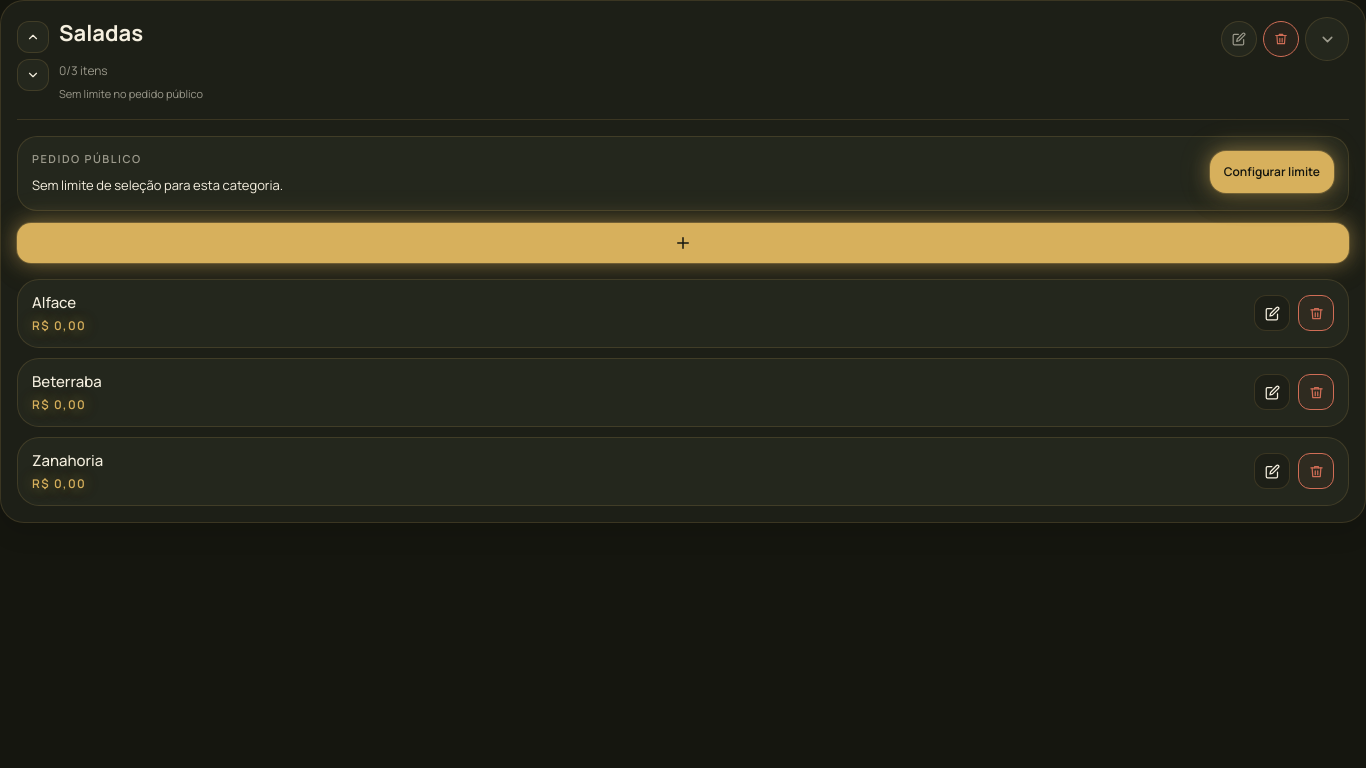
Scenario: CategoryCard › enables save limit when only a minimum is set
This screenshot has width=1366, height=768.
Click the button "Configurar limite" at (1272, 172), box x1=1210 y1=150 x2=1334 y2=192
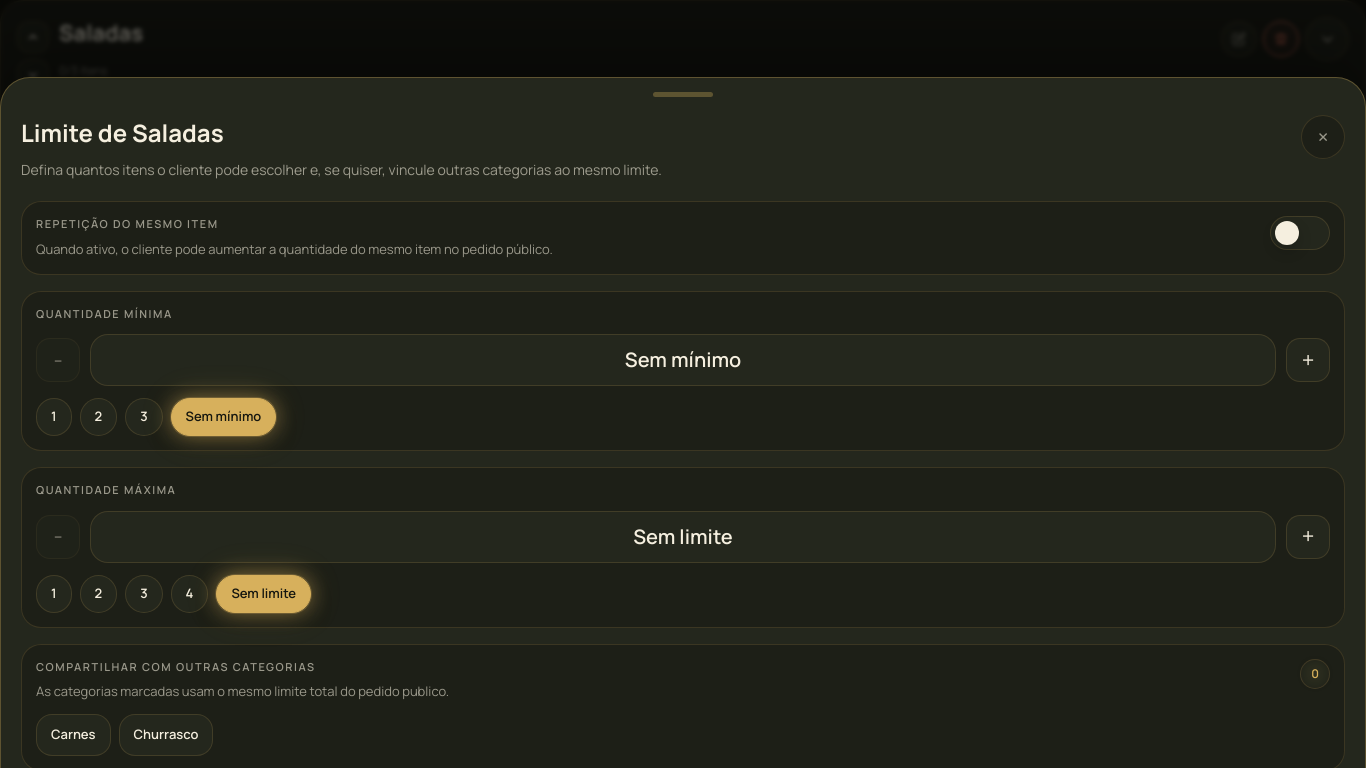
Click the button named "Aumentar minimo de Saladas" at (1308, 360), box x1=1286 y1=338 x2=1330 y2=382
(page scrolled)
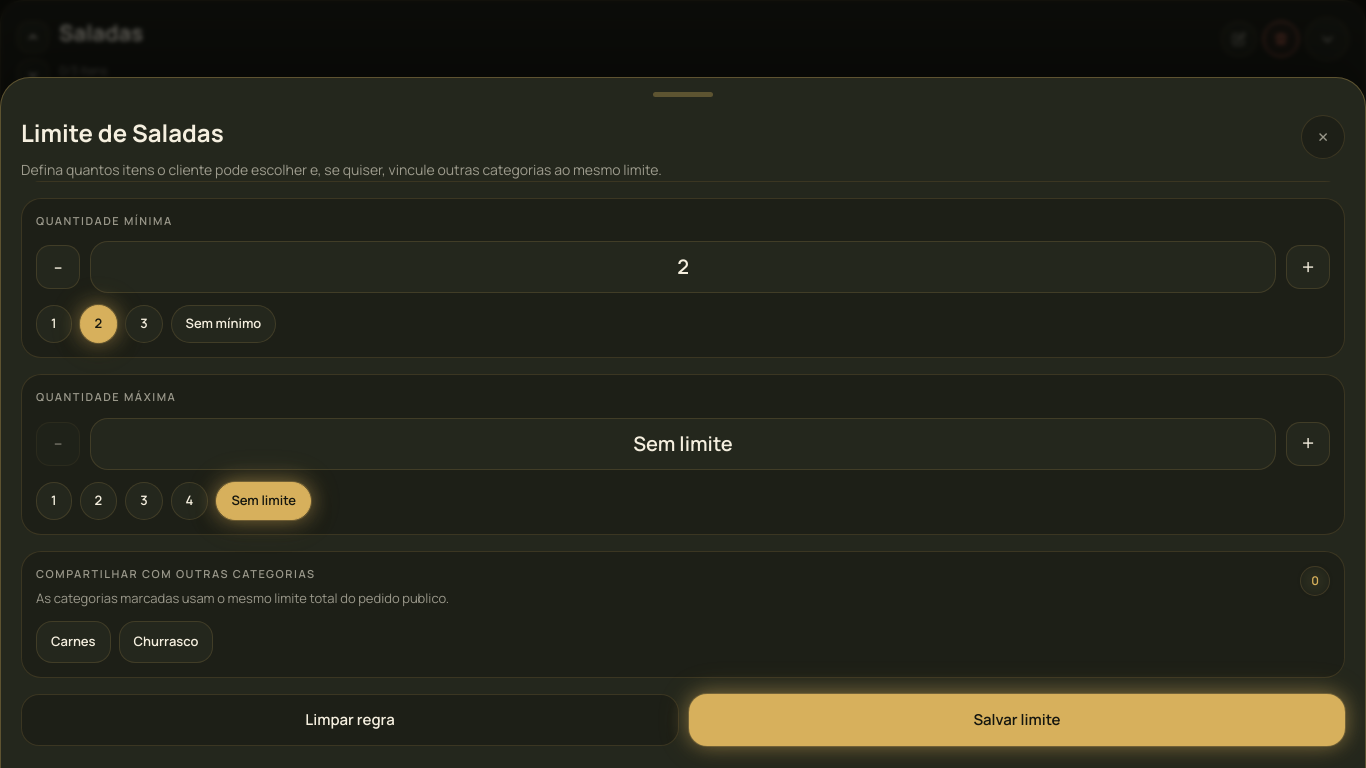
Expected: the button "Salvar limite" is enabled, x1=689 y1=694 x2=1345 y2=746
